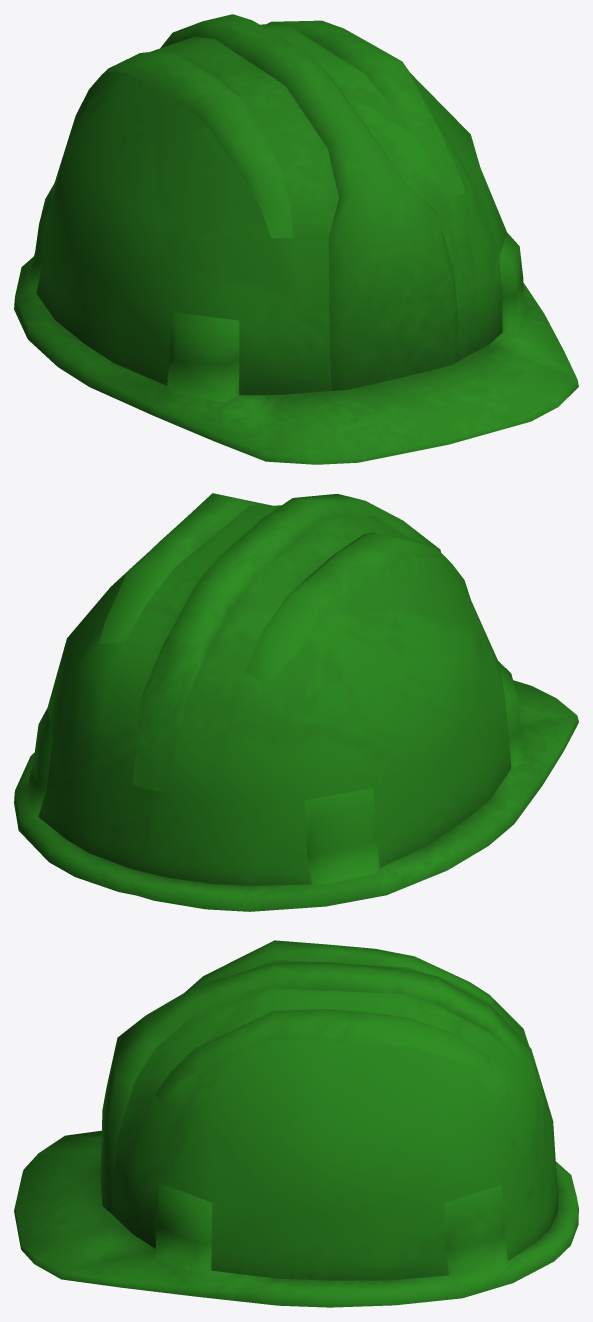
File: HardHat.FBX
3 views of the same model, one above another, from view 1: azimuth 30°, elevation 25°; view 2: azimuth 150°, elevation 25°; view 3: azimuth 270°, elevation 25° (orthographic). The views are drawn at different scales.
Visible parts, largest first — view 1: HardHelmet; view 2: HardHelmet; view 3: HardHelmet.
Boxes of the visible parts, x1,y1,x2,y2 form: HardHelmet: (14,14,578,464); HardHelmet: (14,493,578,911); HardHelmet: (14,940,578,1307).
Size of the model in its own units: 22.27 by 13.51 by 27.89.
